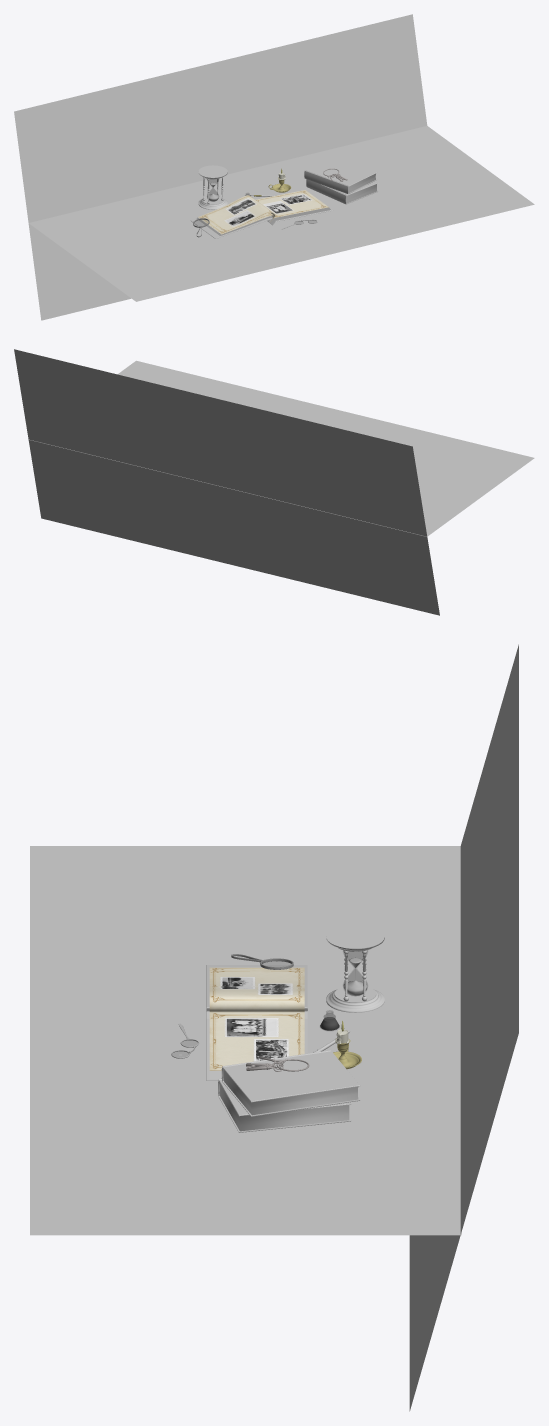
File: Mesa.fbx
3 renders of one model, top to bottom at view 1: azimuth 30°, elevation 25°; view 2: azimuth 150°, elevation 25°; view 3: azimuth 270°, elevation 25°, orthographic. The views are drawn at different scales.
Parts seen in each view (by area): view 1: plano_mesa1, plano_mesa, capa (×2), album_pag_virada1, album_pag_ultima; view 2: plano_mesa1, plano_mesa; view 3: plano_mesa, plano_mesa1, album_pag_ultima, capa, album_pag_virada1, folhas (×2), base1, base2.
Part boxes in pixels (<box>): plano_mesa1: <box>14,14,427,320</box>; plano_mesa: <box>29,126,534,301</box>; capa (×2): <box>304,156,377,204</box>; album_pag_virada1: <box>202,195,275,232</box>; album_pag_ultima: <box>255,190,328,218</box>; plano_mesa1: <box>14,349,439,615</box>; plano_mesa: <box>29,360,534,536</box>; plano_mesa: <box>30,846,461,1235</box>; plano_mesa1: <box>409,644,518,1411</box>; album_pag_ultima: <box>209,1012,304,1070</box>; capa: <box>221,1050,360,1116</box>; album_pag_virada1: <box>209,970,304,1011</box>; folhas (×2): <box>219,1069,358,1131</box>; base1: <box>326,924,384,951</box>; base2: <box>326,986,384,1012</box>.
Size of the model in its own units: 150 by 68.09 by 79.7.
